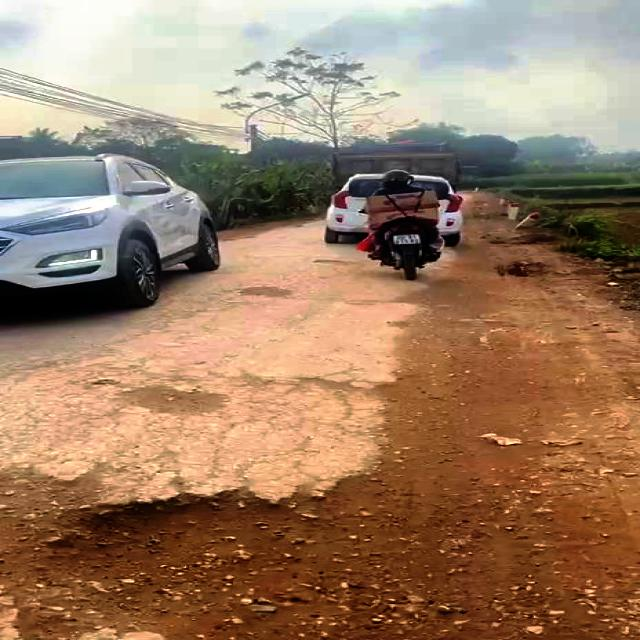pothole: (0, 459, 451, 640), (127, 385, 234, 418), (239, 284, 298, 301)
